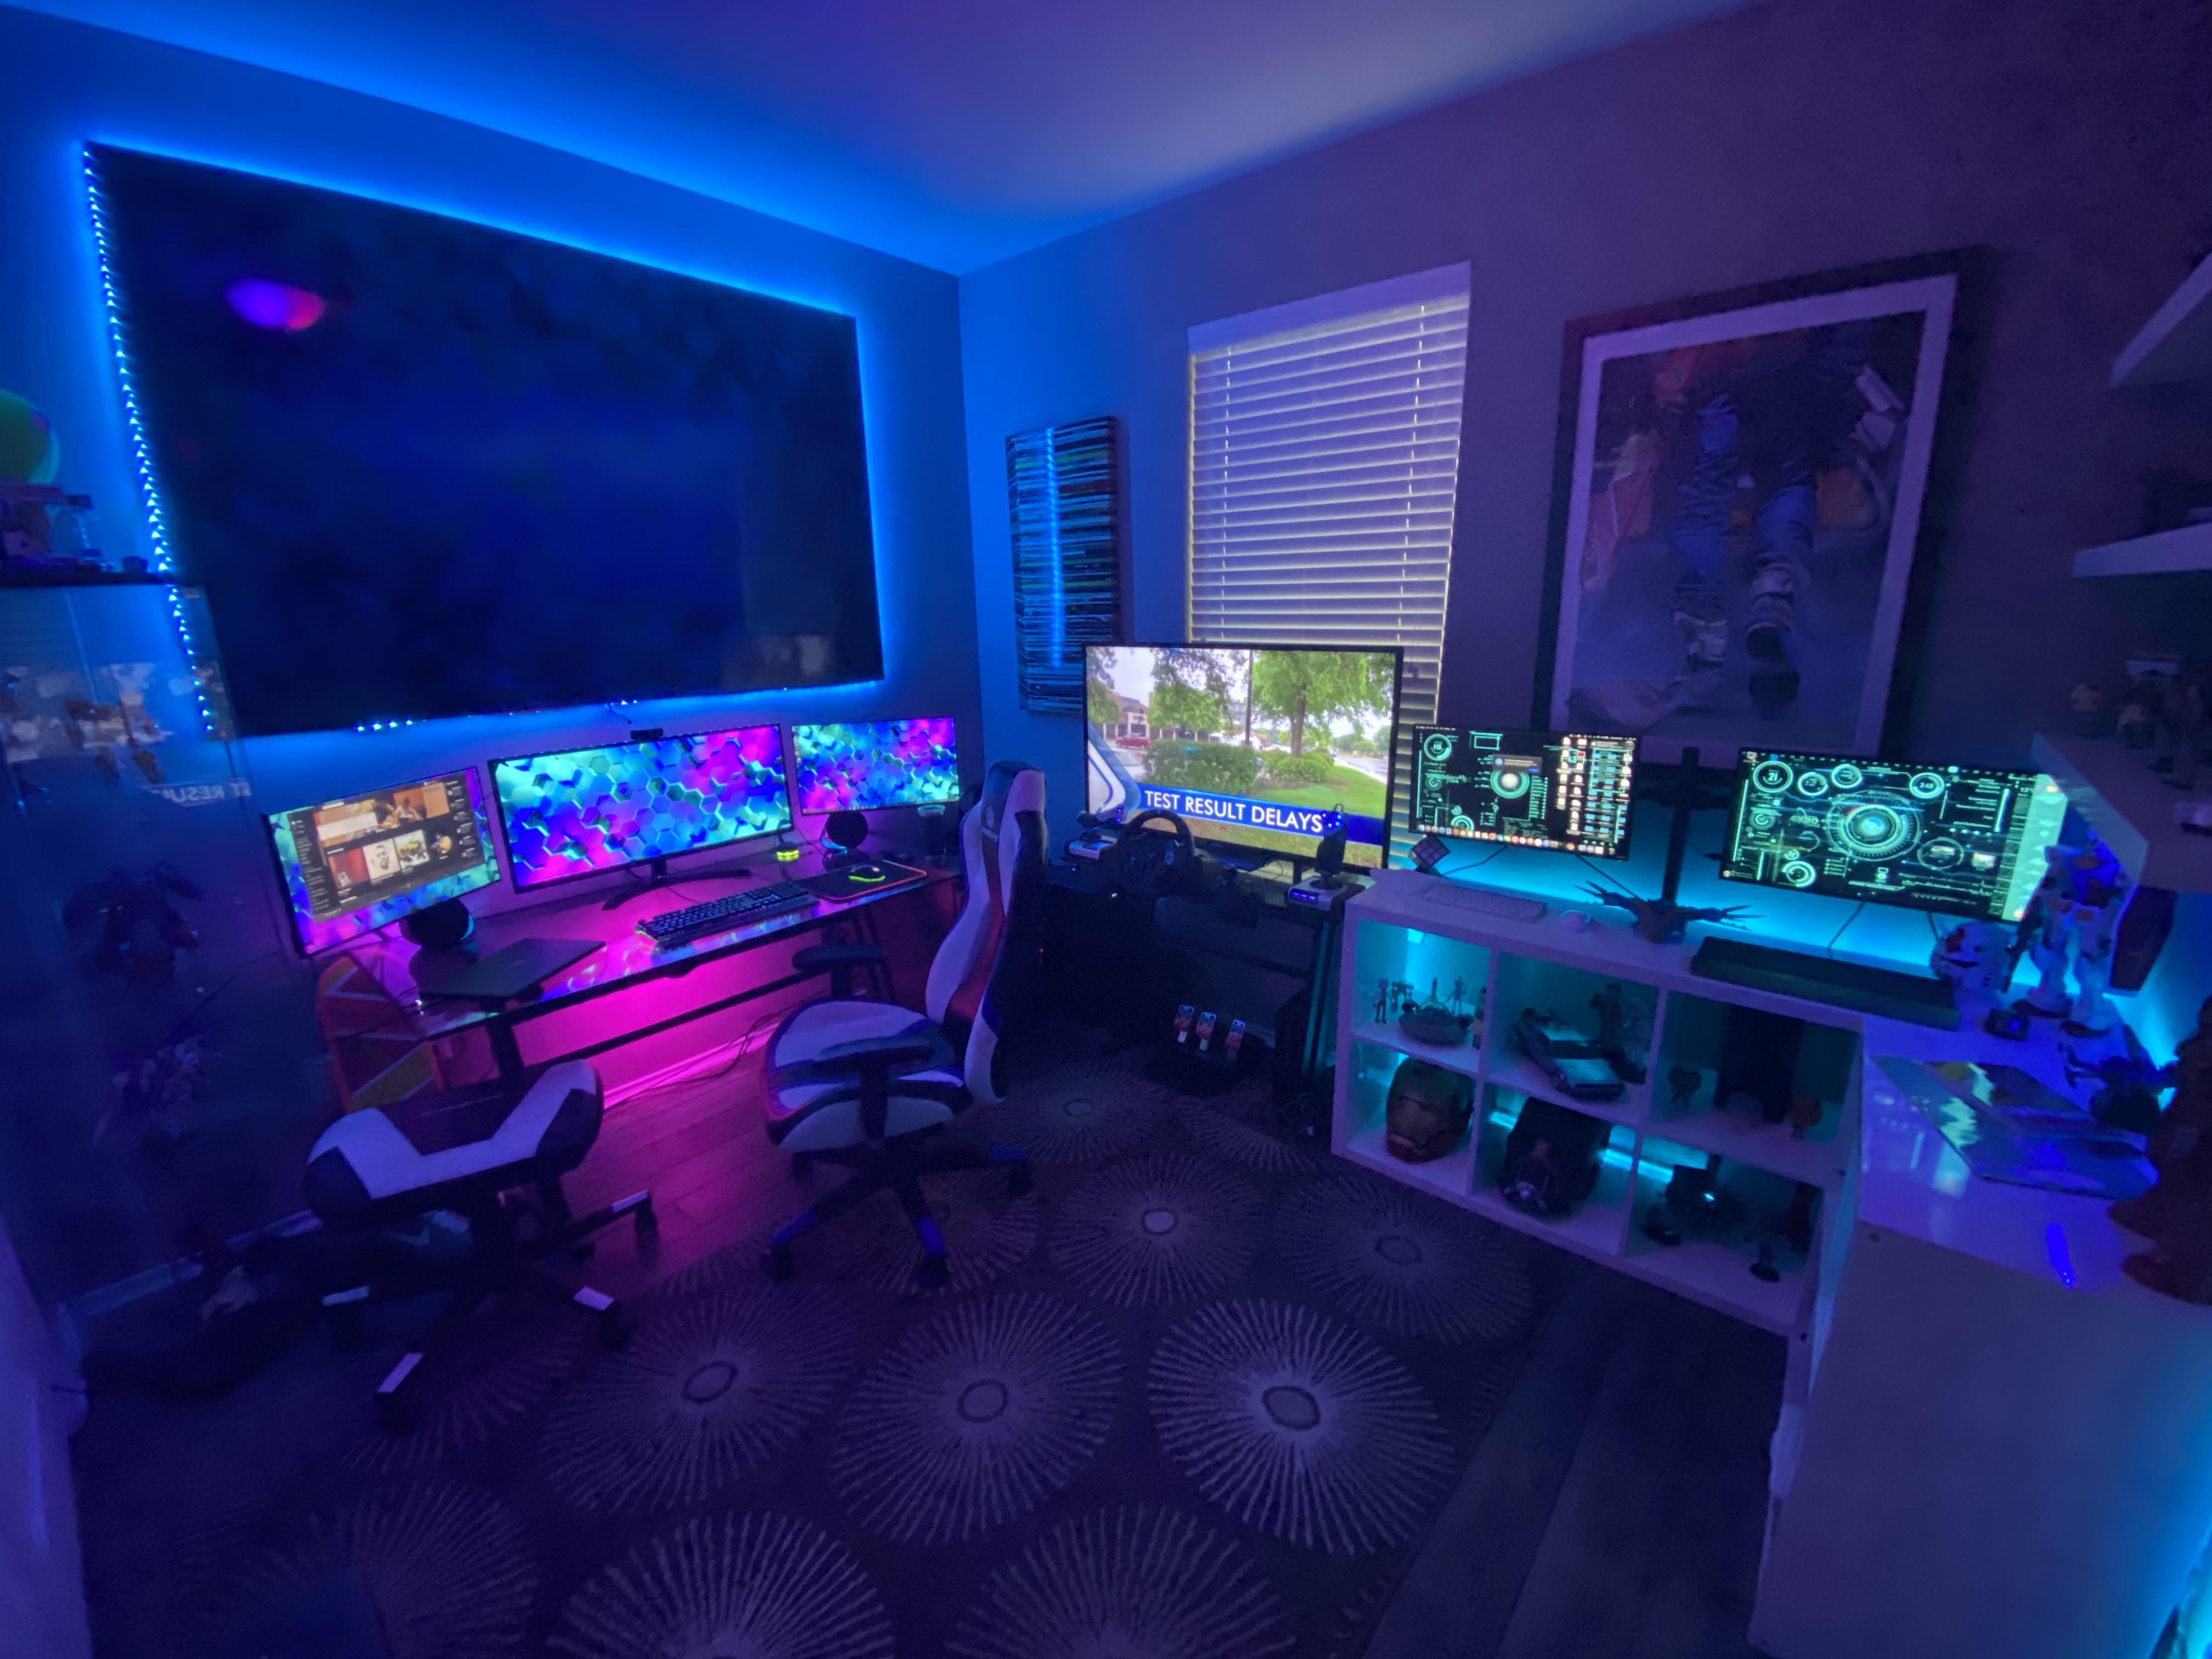Chair (Gaming): (763, 762, 1036, 1283)
Decoration (Miniature): (2003, 828, 2153, 1044), (2113, 1007, 2212, 1324), (1637, 1161, 1811, 1283), (1667, 1019, 1831, 1138), (1510, 972, 1656, 1105), (1498, 1100, 1611, 1216), (1575, 884, 1770, 946), (1372, 953, 1487, 1051), (1376, 1054, 1475, 1164)
Decoration (Picture): (1531, 232, 1987, 809), (989, 413, 1137, 721)
Desk (Generic): (348, 824, 968, 1168)
External Webcam: (629, 730, 662, 742)
Footrest: (296, 1063, 660, 1415)
Gaming Controller: (1143, 1002, 1259, 1121), (1062, 810, 1120, 863)
Keyboard (Generic): (1674, 938, 1959, 1023), (632, 884, 806, 965), (1411, 882, 1550, 918)
Laptop (Generic): (420, 936, 608, 1004)
Monitor (Landscape): (1721, 751, 2073, 929), (482, 718, 794, 894), (261, 769, 498, 955), (1407, 725, 1646, 861), (789, 714, 965, 816)
Mouse (Generic): (1982, 1000, 2033, 1047), (1555, 903, 1592, 936), (843, 864, 883, 882)
Mousepad (Gaming): (801, 861, 925, 908)
